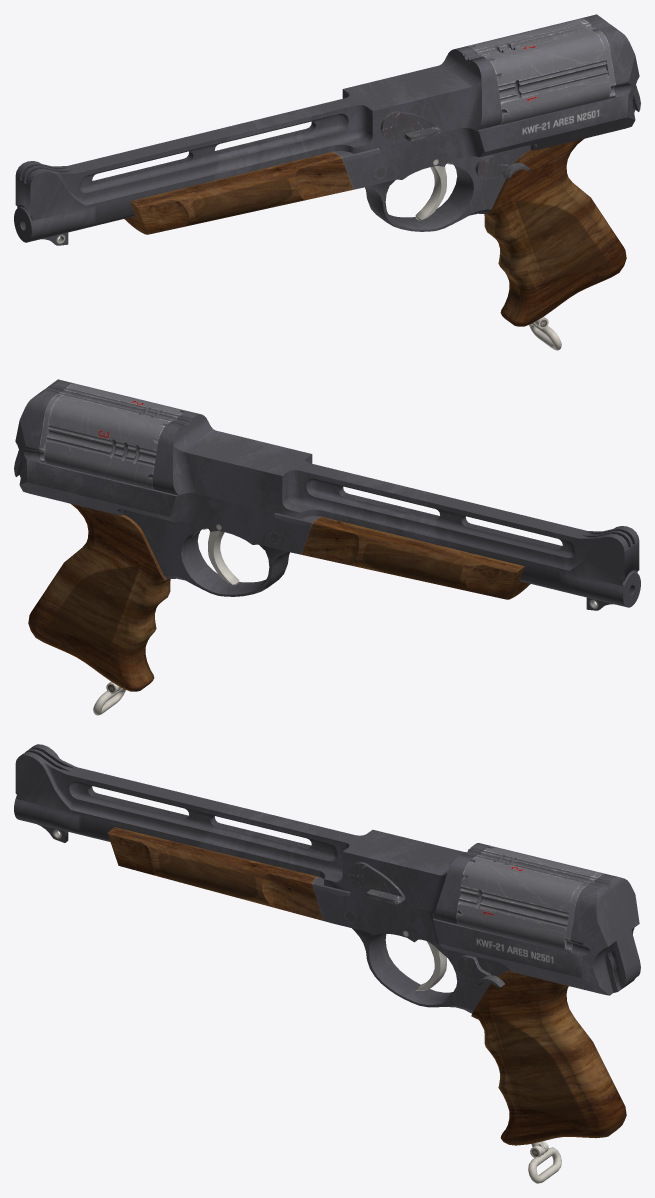
File: revolver.fbx
3 views of the same model, one above another, from view 1: azimuth 30°, elevation 25°; view 2: azimuth 150°, elevation 25°; view 3: azimuth 330°, elevation 25° (orthographic).
Parts seen in each view (by area): view 1: Revolver; view 2: Revolver; view 3: Revolver.
Part boxes in pixels (box(x1,y1,x2,y2)): Revolver: box(14, 14, 640, 350); Revolver: box(14, 379, 640, 715); Revolver: box(14, 744, 640, 1183).
Bounding box in the file's own units: 134 × 64.46 × 17.51.
